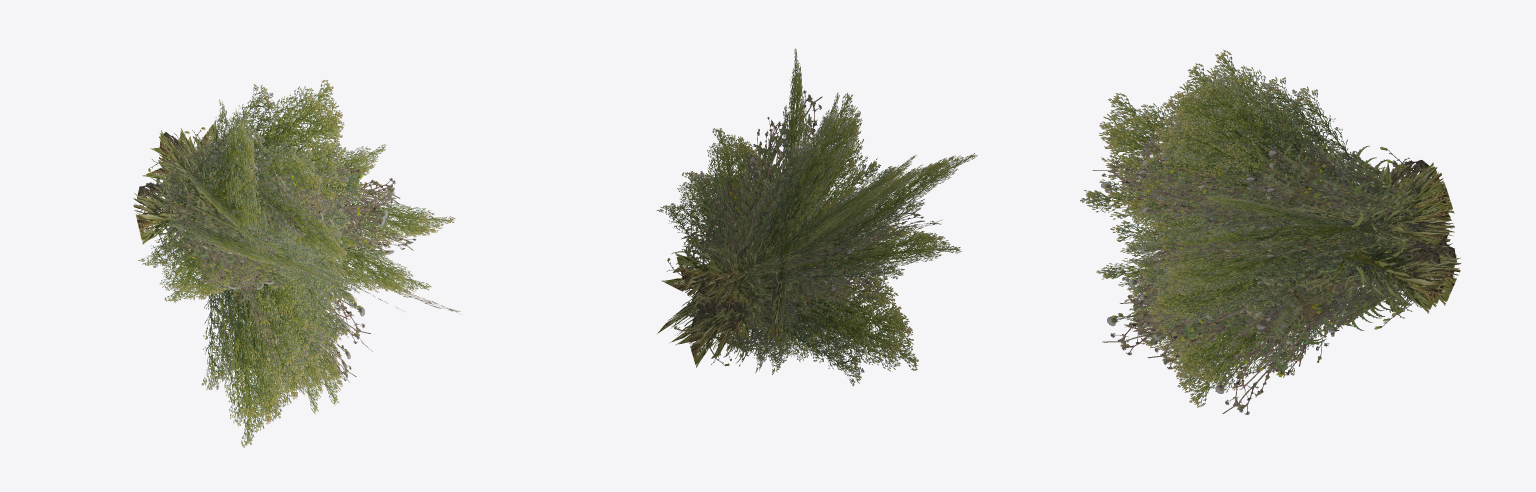
Rendered from Bush_Brian.obj.
The picture shows the model from 3 angles, left to right: view 1: azimuth 30°, elevation 25°; view 2: azimuth 150°, elevation 25°; view 3: azimuth 270°, elevation 25°; orthographic projection. The views are drawn at different scales.
Parts seen in each view (by area): view 1: Plane.005_Plane.021; view 2: Plane.005_Plane.021; view 3: Plane.005_Plane.021.
Part boxes in pixels (left/top/right/bottom): Plane.005_Plane.021: left=133, top=79, right=460, bottom=447; Plane.005_Plane.021: left=656, top=48, right=977, bottom=386; Plane.005_Plane.021: left=1080, top=49, right=1461, bottom=414.
Size of the model in its own units: 253 by 260 by 291.
